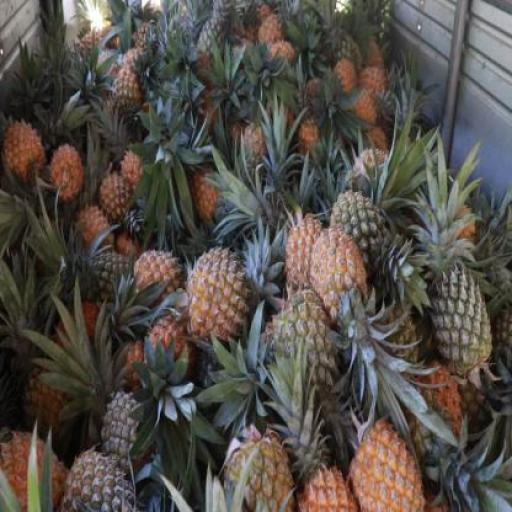------------------------------: (275, 293, 343, 393), (334, 192, 398, 290), (26, 364, 77, 440), (112, 68, 144, 126)
Pineapple - v8 v1: (353, 423, 432, 511), (0, 424, 75, 511), (312, 234, 375, 336), (188, 246, 251, 342), (288, 218, 337, 306), (150, 318, 196, 396), (136, 251, 179, 308), (8, 121, 46, 181), (102, 168, 140, 222), (53, 146, 84, 206)
